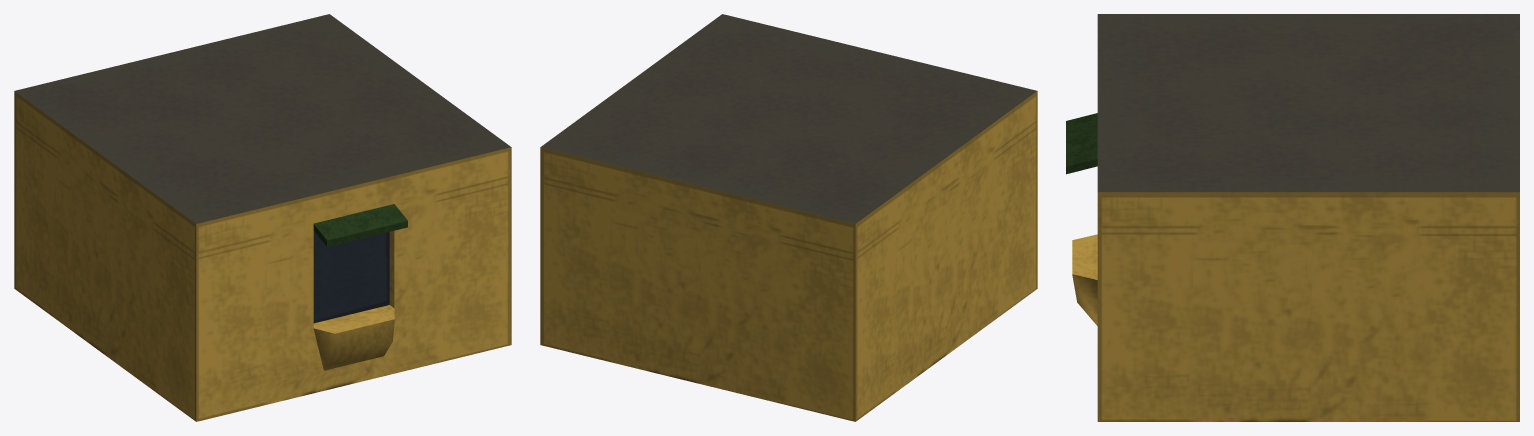
Rendered from flat_with_window.FBX.
3 views of the same model, side by side, from view 1: azimuth 30°, elevation 25°; view 2: azimuth 150°, elevation 25°; view 3: azimuth 270°, elevation 25° (orthographic). The views are drawn at different scales.
Parts seen in each view (by area): view 1: Box001; view 2: Box001; view 3: Box001.
Part boxes in pixels (box(x1,y1,x2,y2)): Box001: box(14, 14, 511, 421); Box001: box(540, 14, 1037, 421); Box001: box(1066, 14, 1519, 421).
Size of the model in its own units: 197 by 118 by 212.
Materials: 1 (1 with a texture image).
